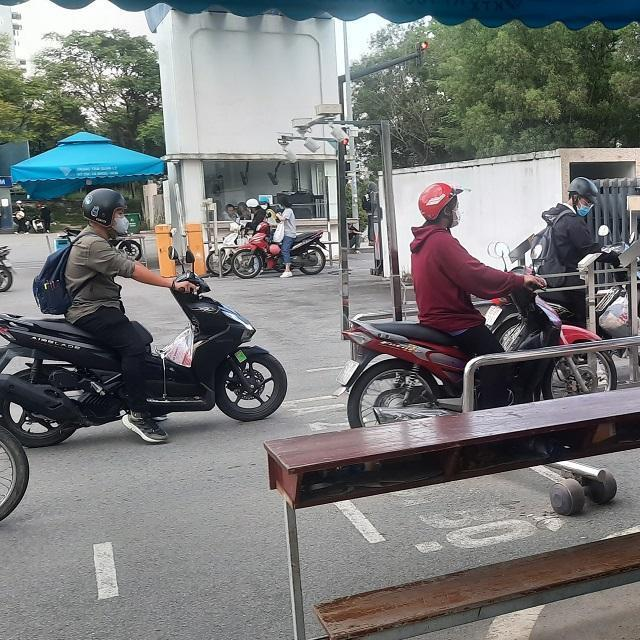Helmet: (80, 187, 132, 237), (417, 180, 463, 228), (565, 174, 601, 216)
